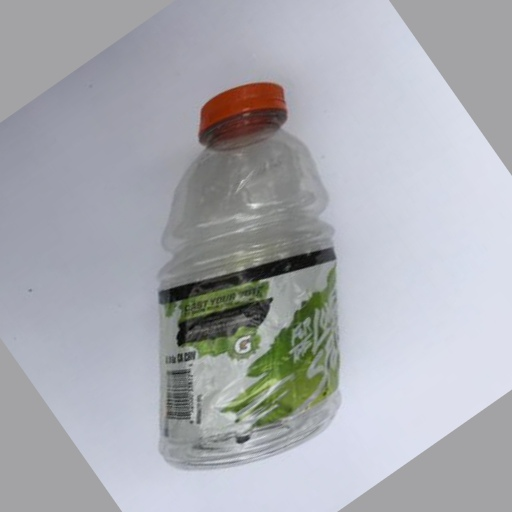Plastic_0: (158, 81, 342, 468)
